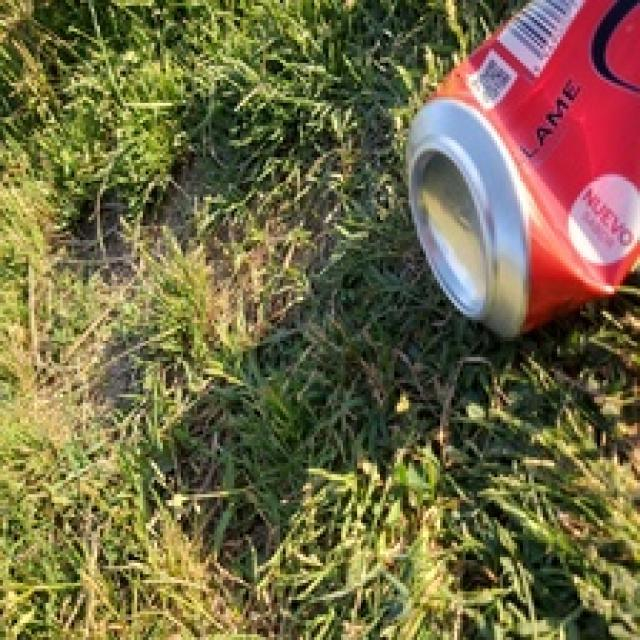recyclable: (405, 0, 640, 340)
